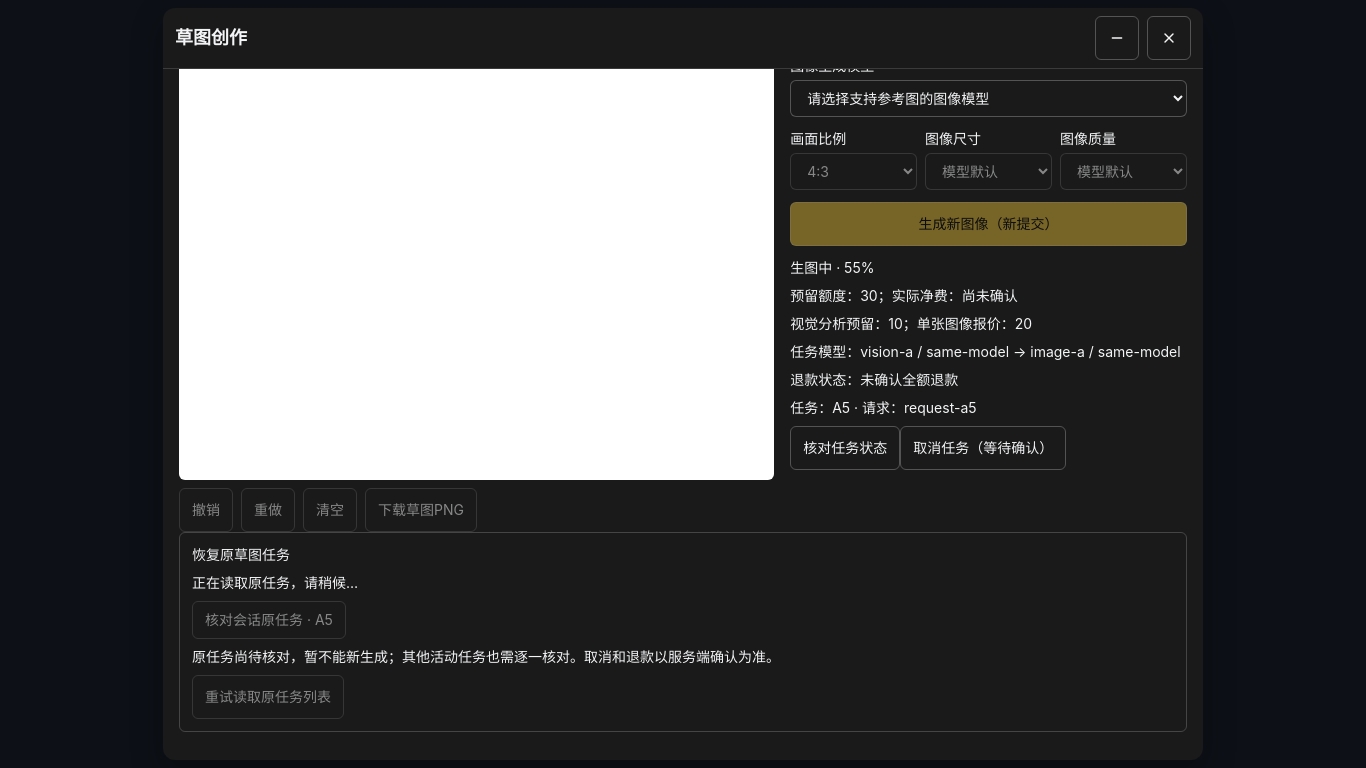
Scenario: opted-in sketch drawer recovers the original paid task without resubmission › keeps a known image task checkable and cancellable during independent discovery loading and failure
The image size is (1366, 768).
(page scrolled)
expect the button "取消任务（等待确认）" is enabled: met, box [900,426,1066,470]
What coordinates should you click on to do the following:
click the button "核对任务状态"
I would click on:
 (845, 448)
Its box is [790,426,900,470].
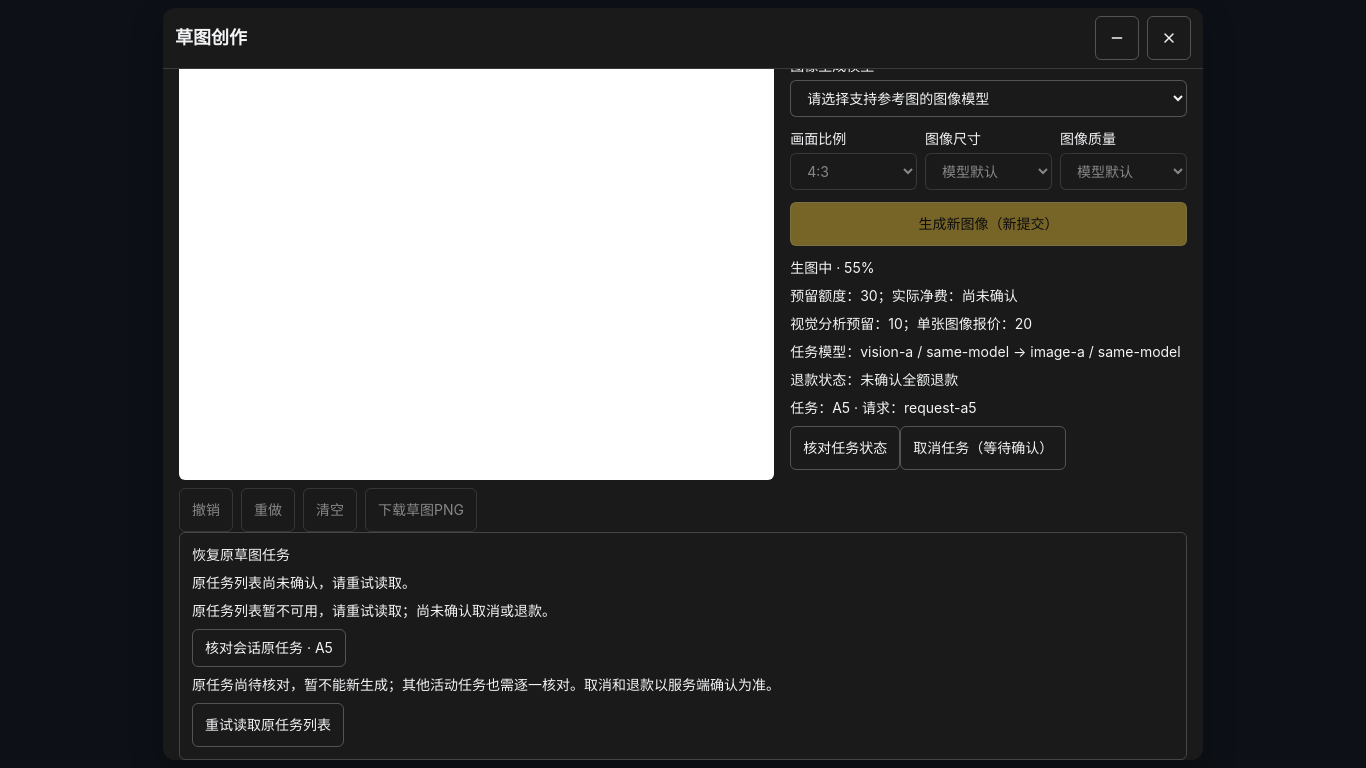
expect the text "生图中 · 55%" is shown: met, box [790,259,874,276]
expect the message "原任务列表暂不可用，请重试读取；尚未确认取消或退款。" is shown: met, box [192,602,556,619]
What coordinates should you click on to do the following:
click the button "取消任务（等待确认）"
I would click on:
 (983, 448)
Its box is [900,426,1066,470].
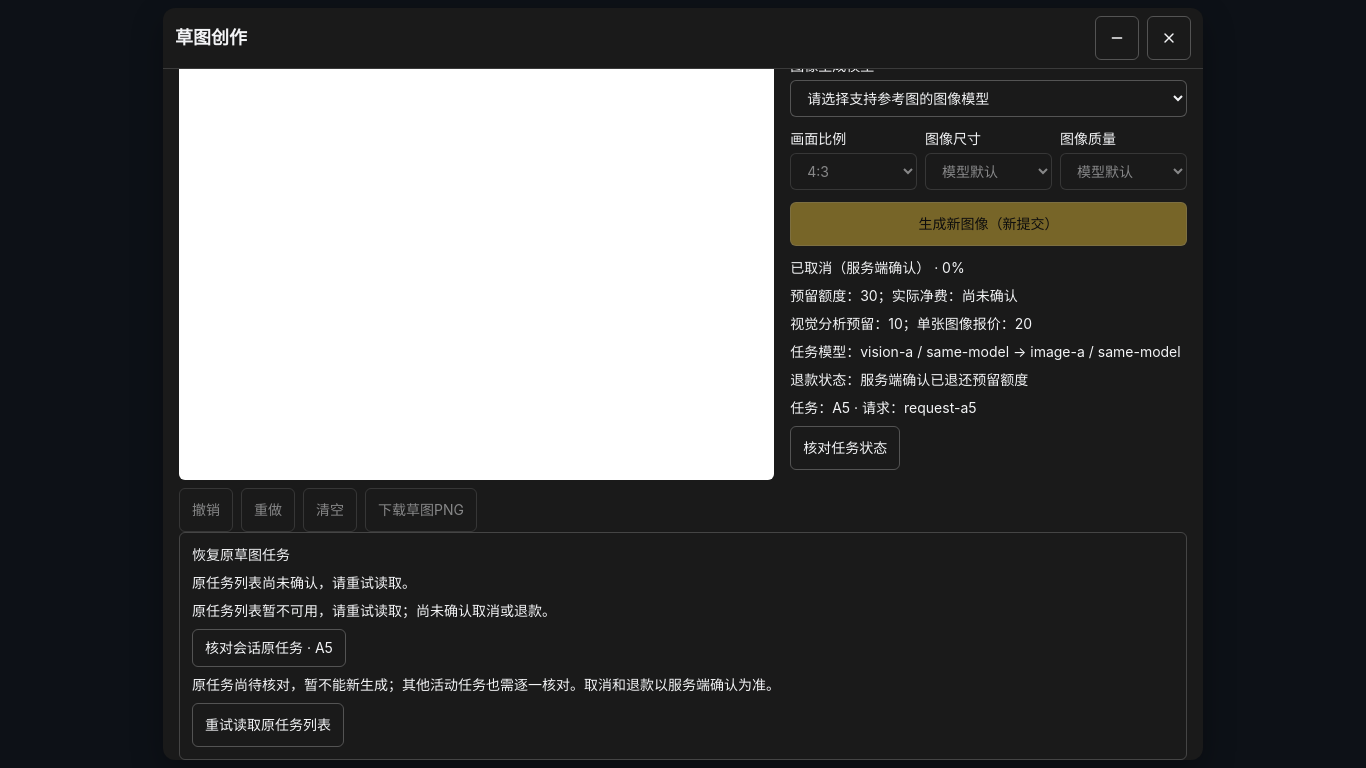
expect the text "已取消（服务端确认） · 0%" is shown: met, box [790,259,965,276]
